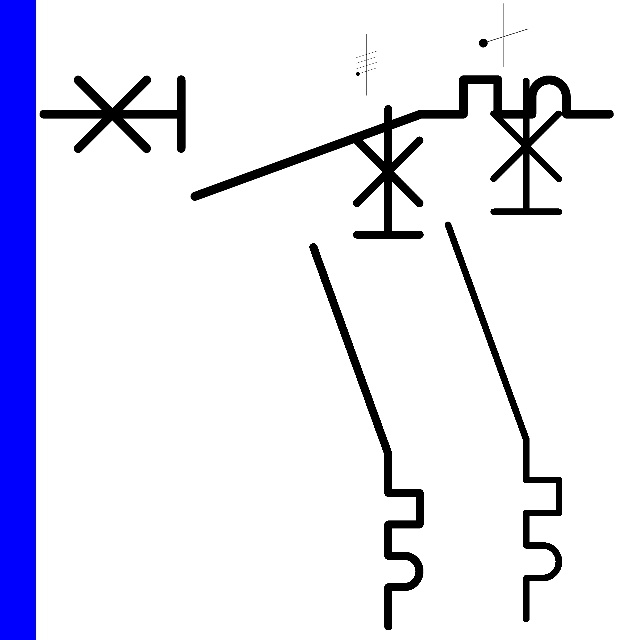interruptor_termomagnetico: (29, 65, 624, 210), (434, 67, 573, 633), (300, 95, 433, 639)
